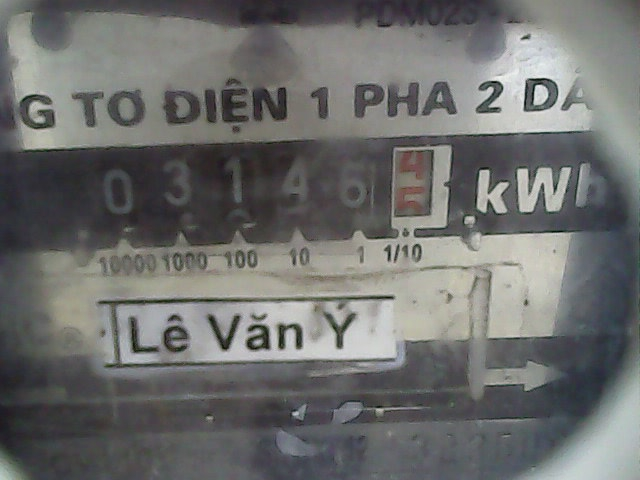phy_plate: (71, 134, 467, 249)
